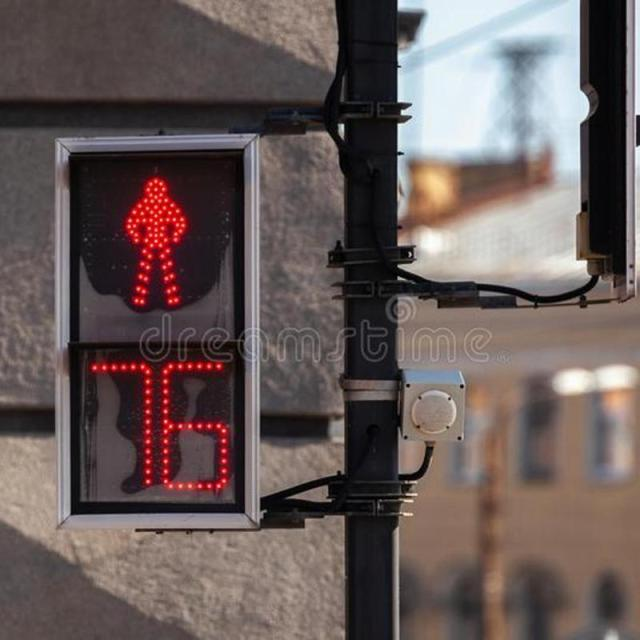red_light: (62, 143, 252, 335)
